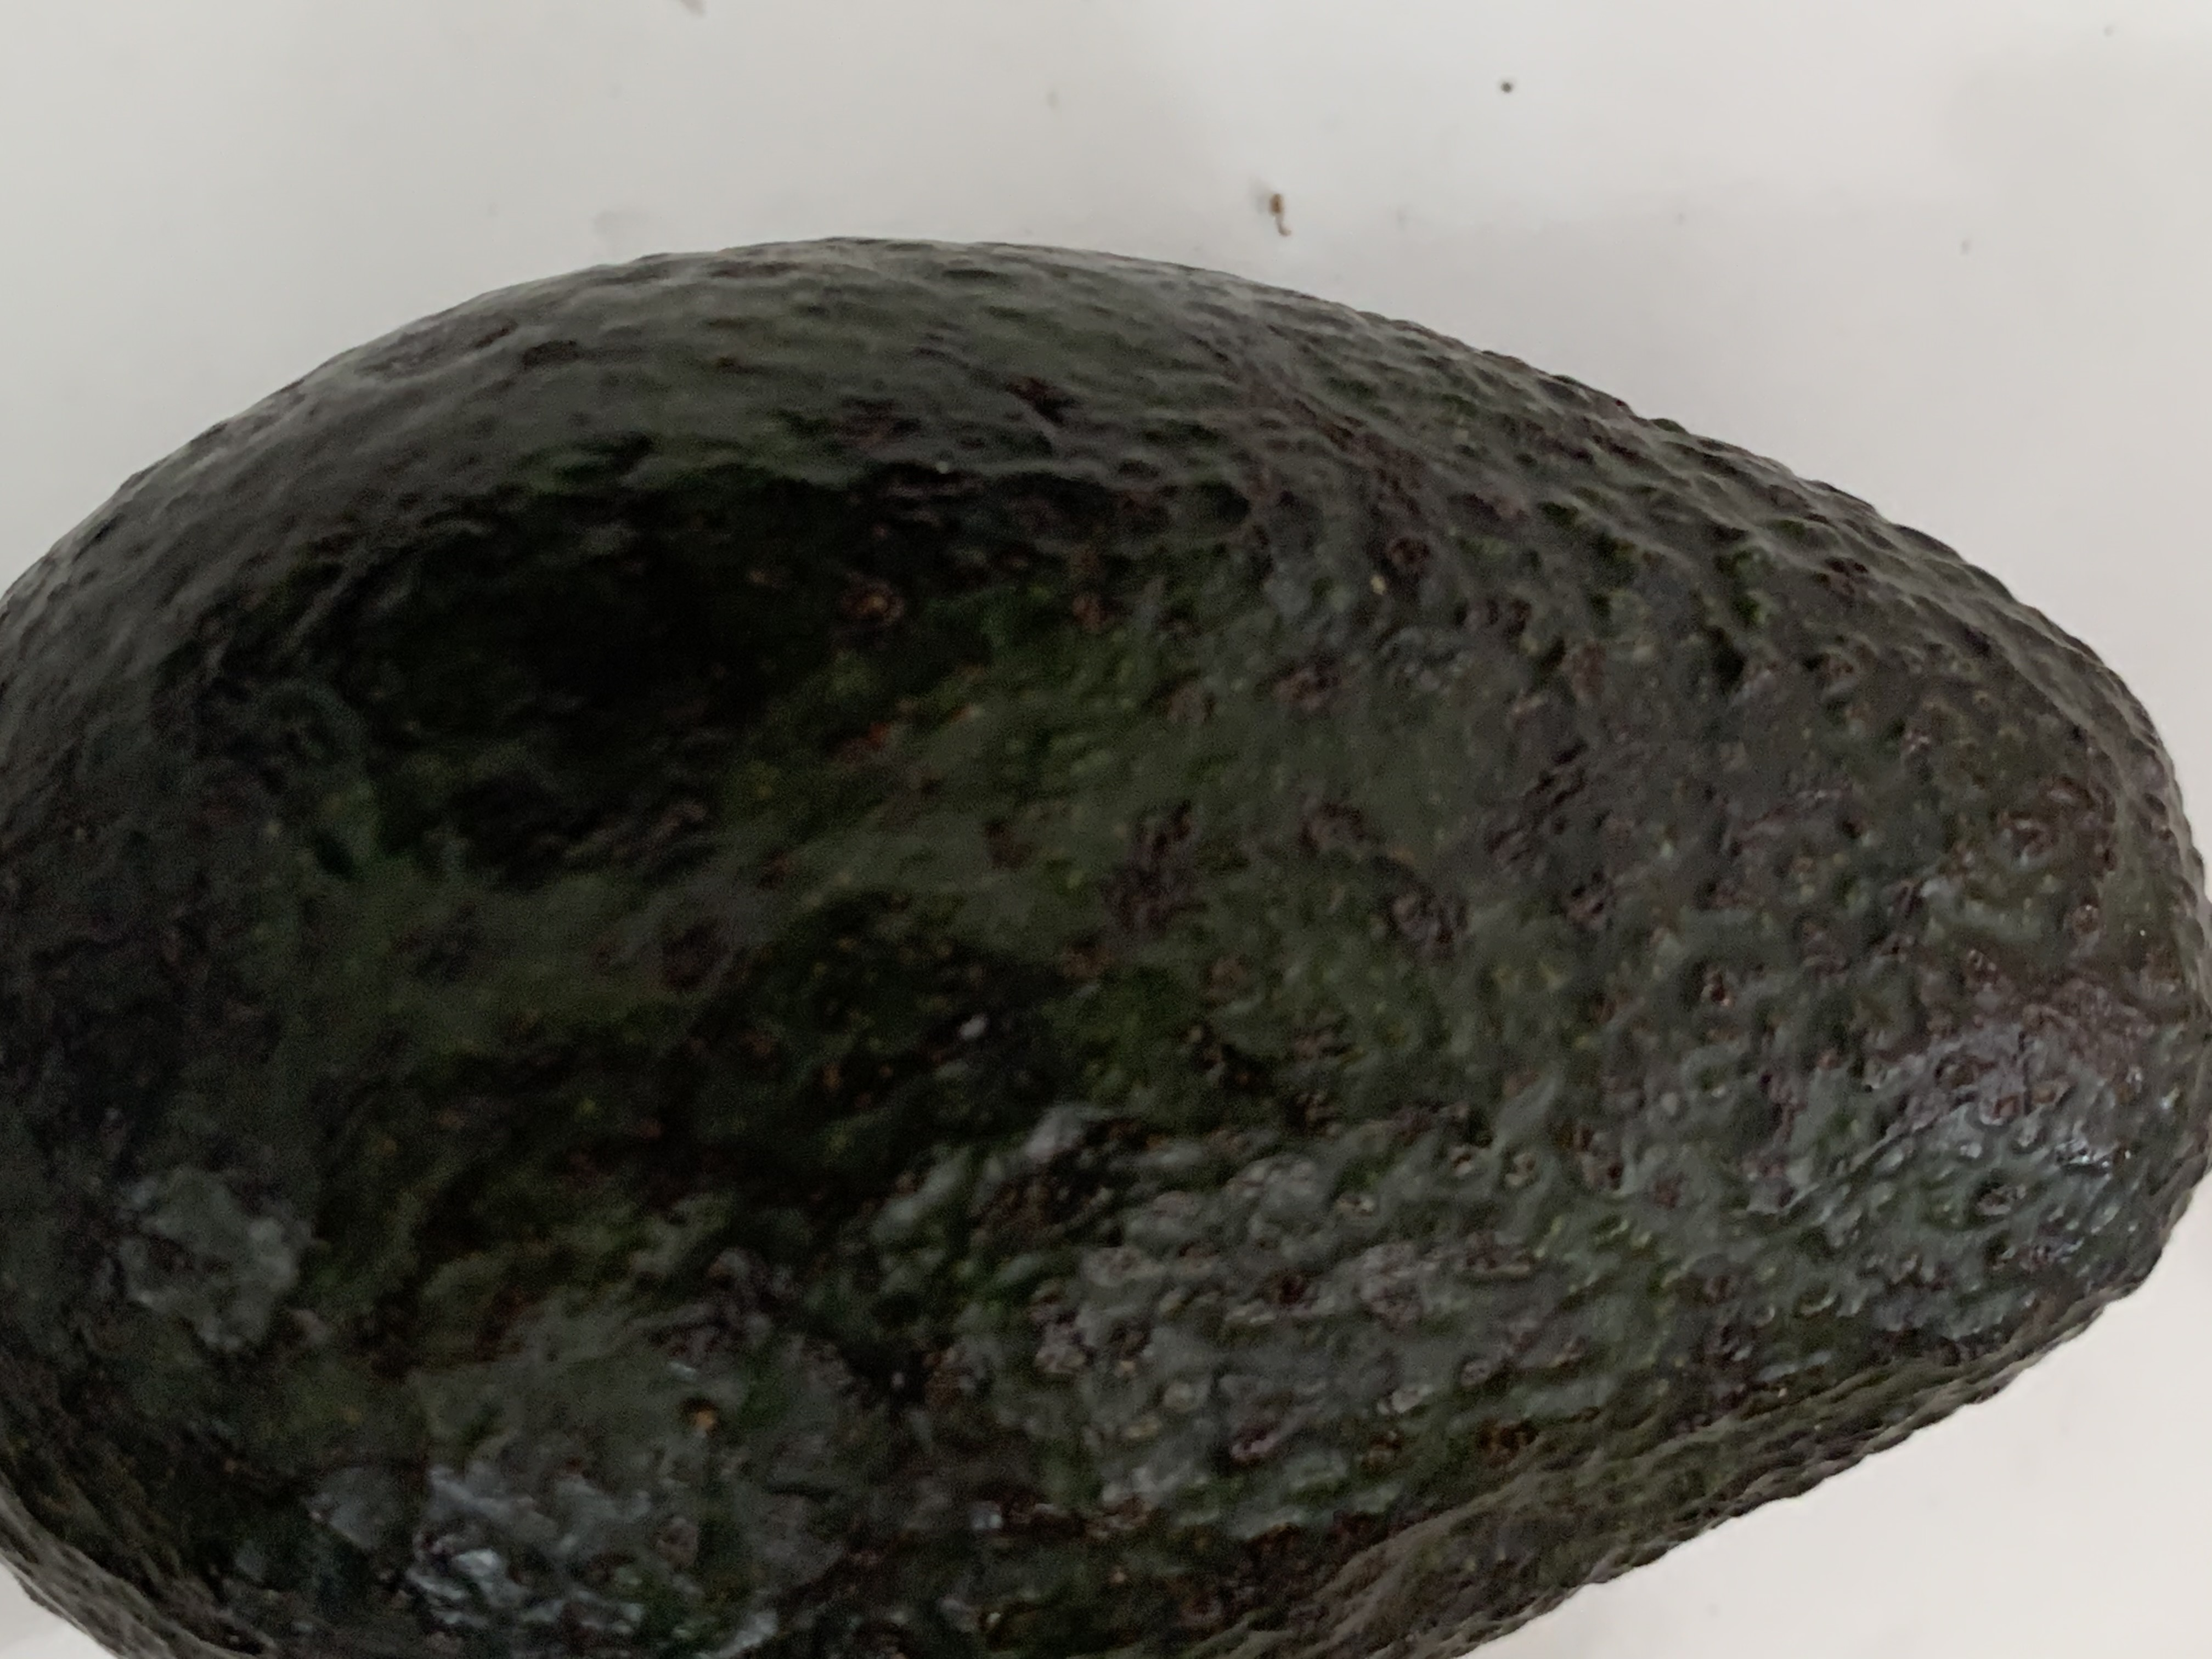avocado: (5, 232, 2202, 1659)
